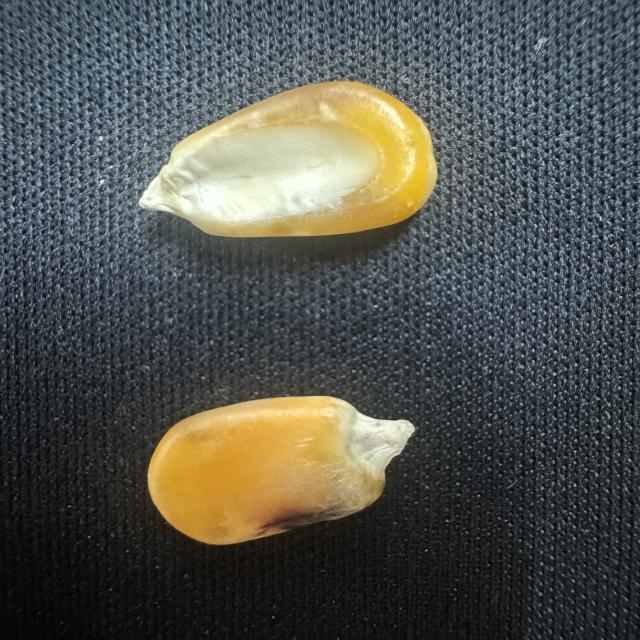Bad-Seed: (143, 390, 418, 548)
Good-Seed: (132, 77, 443, 243)
